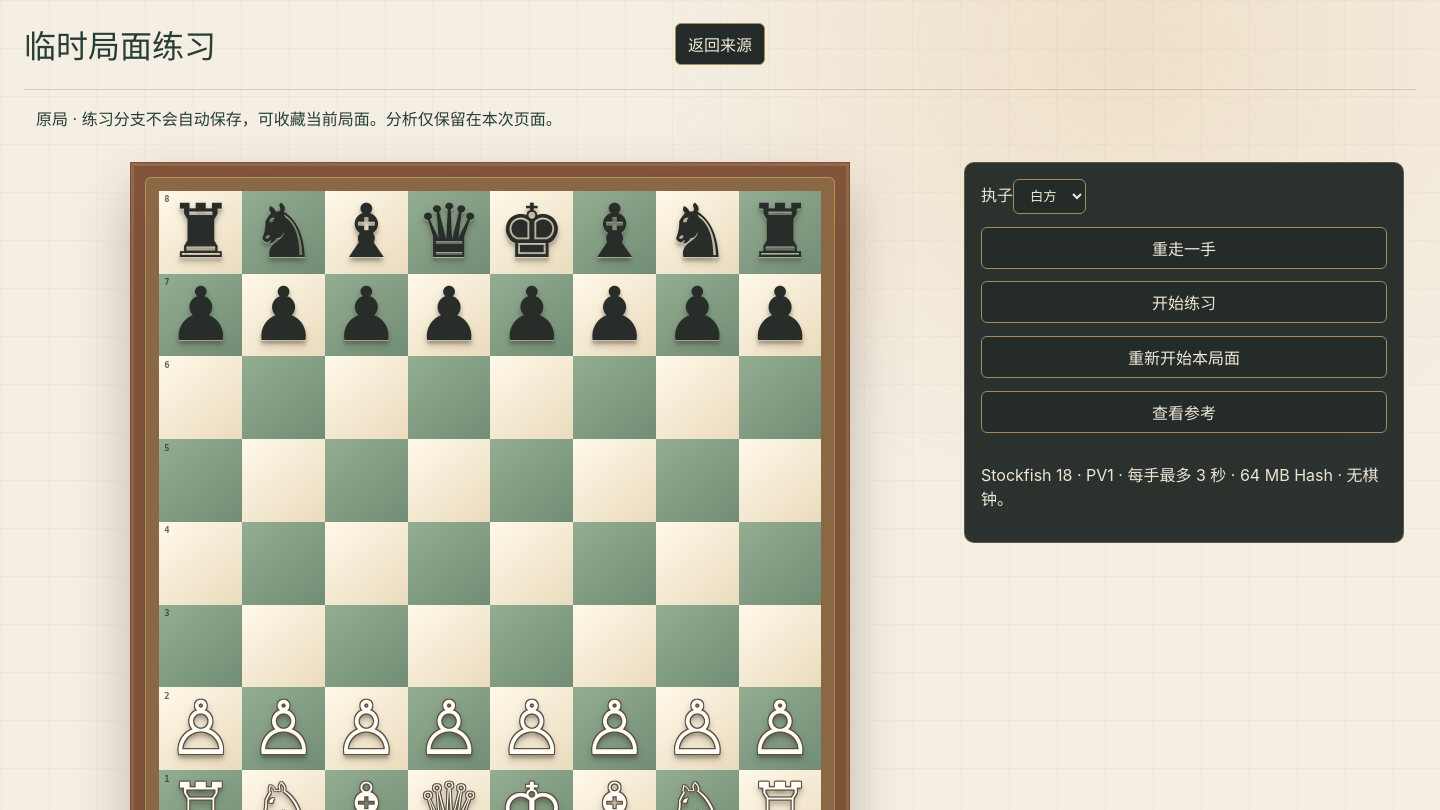
临时练习与原局隔离 › 浏览与重走不加载引擎、不保存；参考默认收起，完整历史不变
Expected: the text "答案备注" is not shown
Click the button "重走一手" at (1184, 248), box [981,227,1387,269]
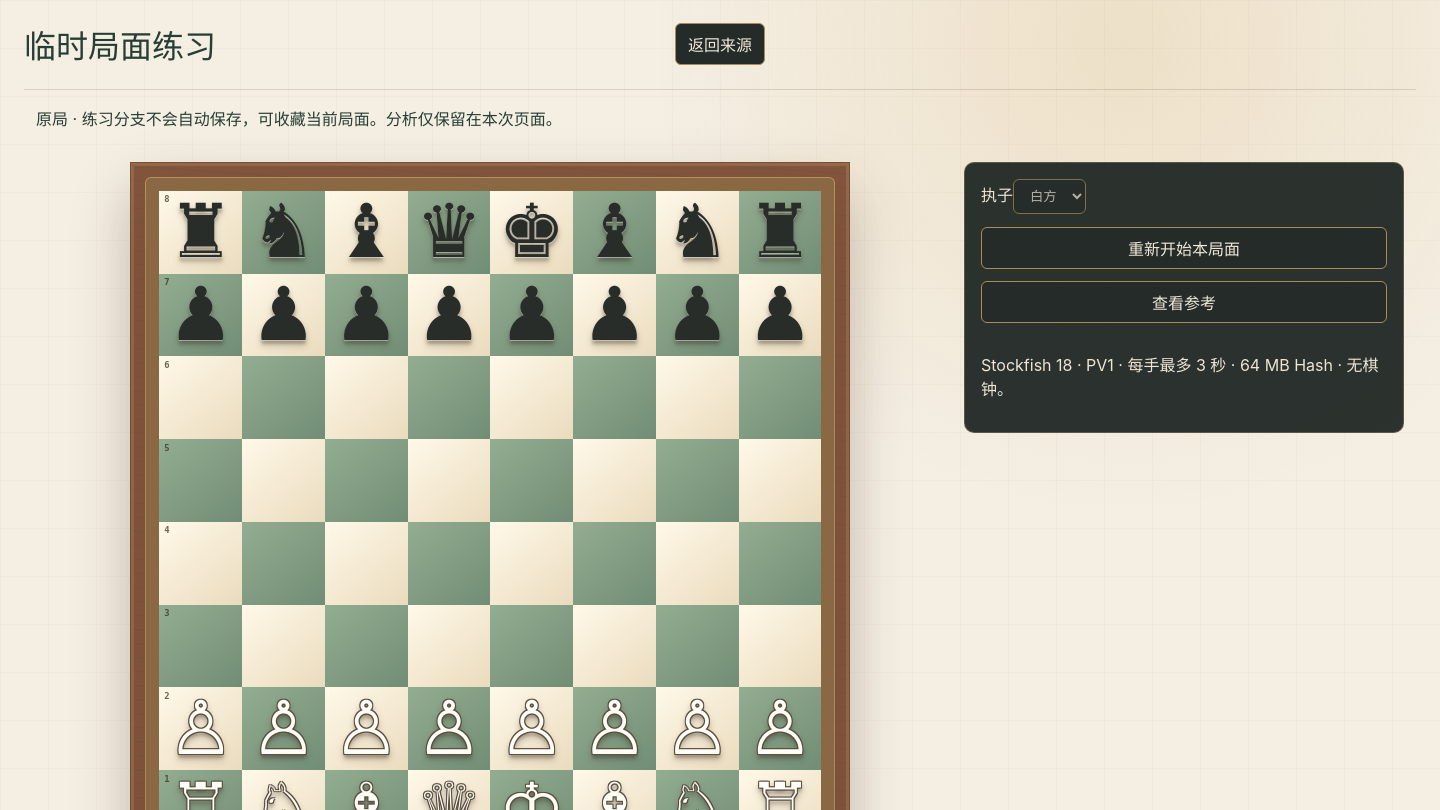
Click the cell named "e2 白方p" at (532, 729), box [490,687,573,770]
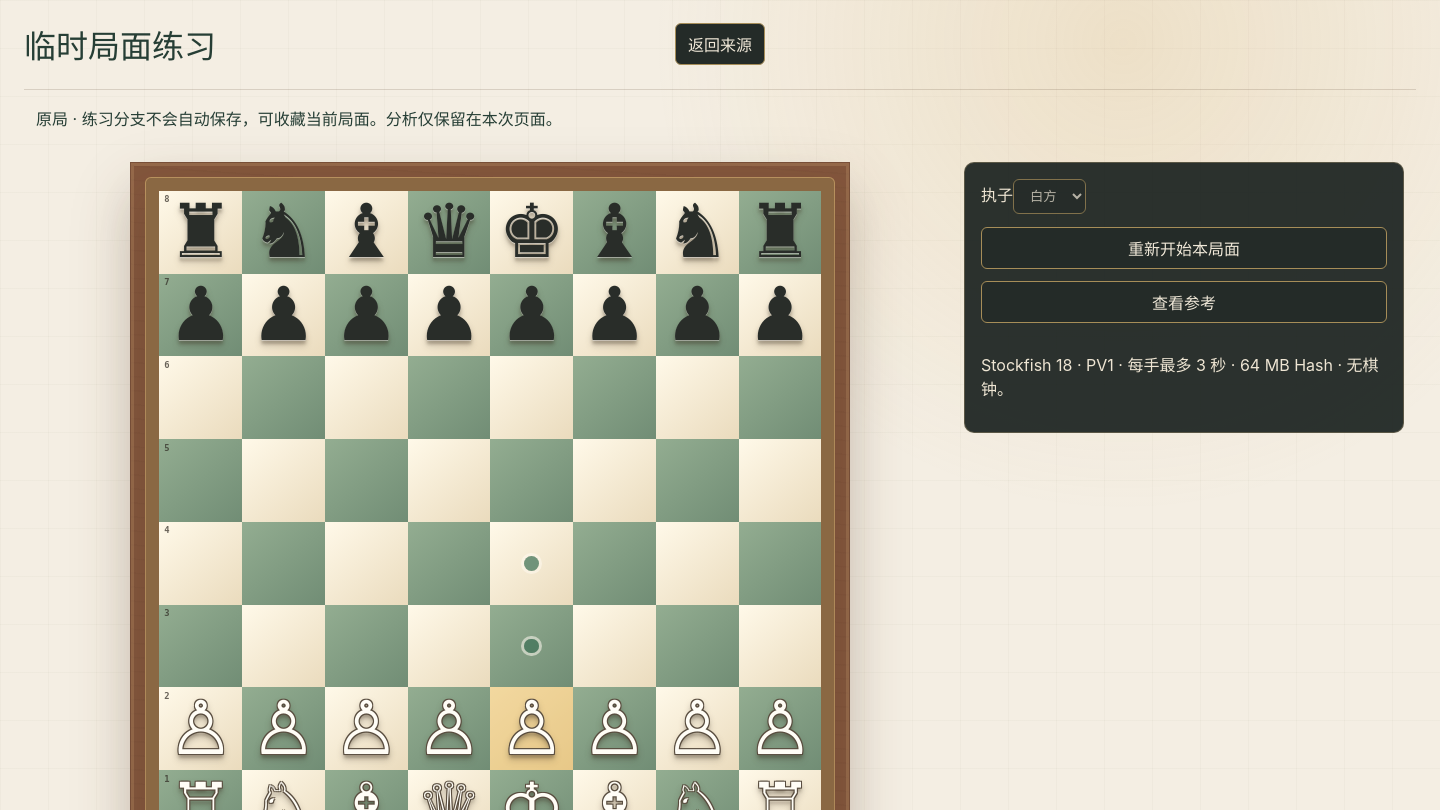
Click the cell named "e4 可落子" at (532, 563), box [490,522,573,605]
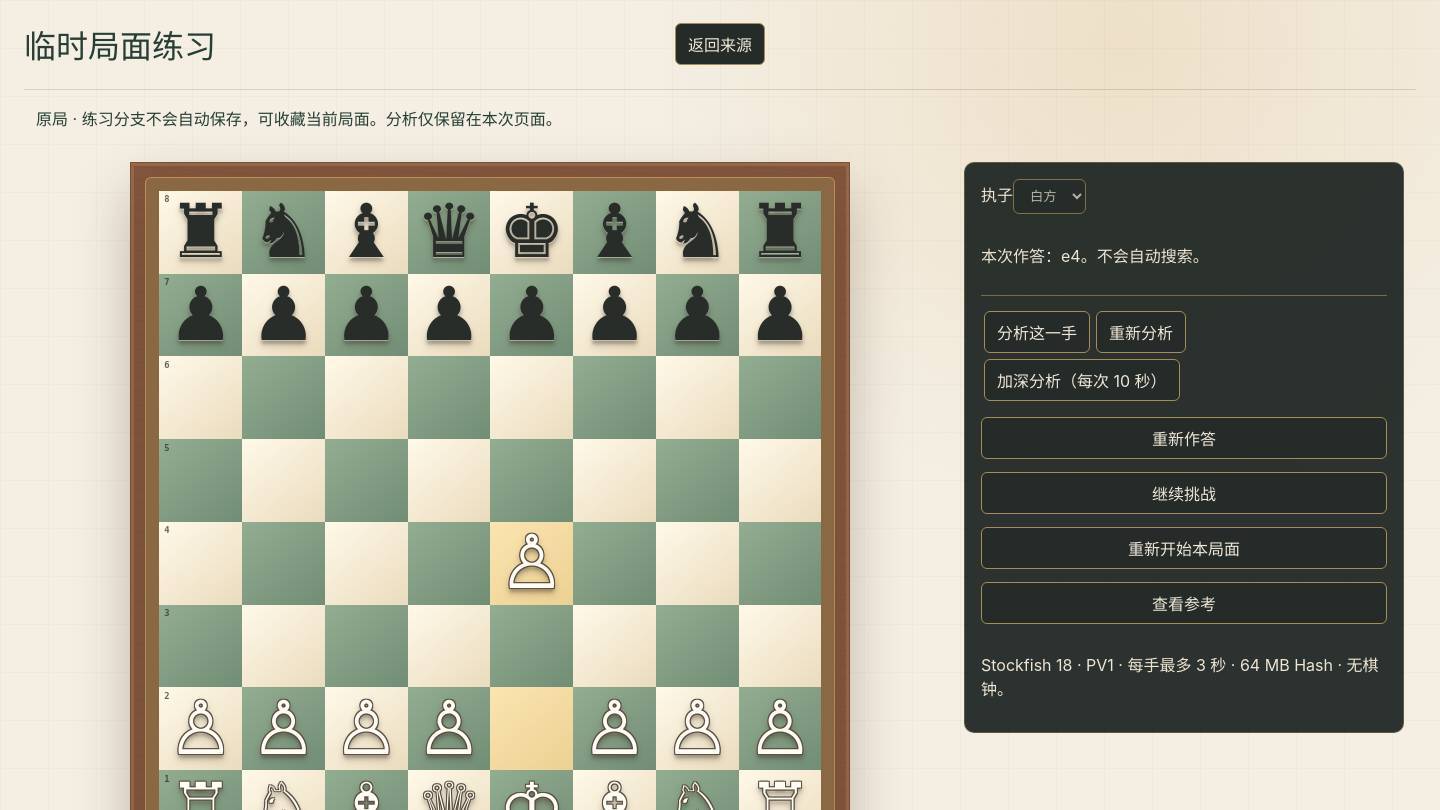
Expected: the text "本次作答：e4。不会自动搜索。" is shown, [981,246,1209,266]
Click the button "查看参考" at (1184, 603), box [981,582,1387,624]
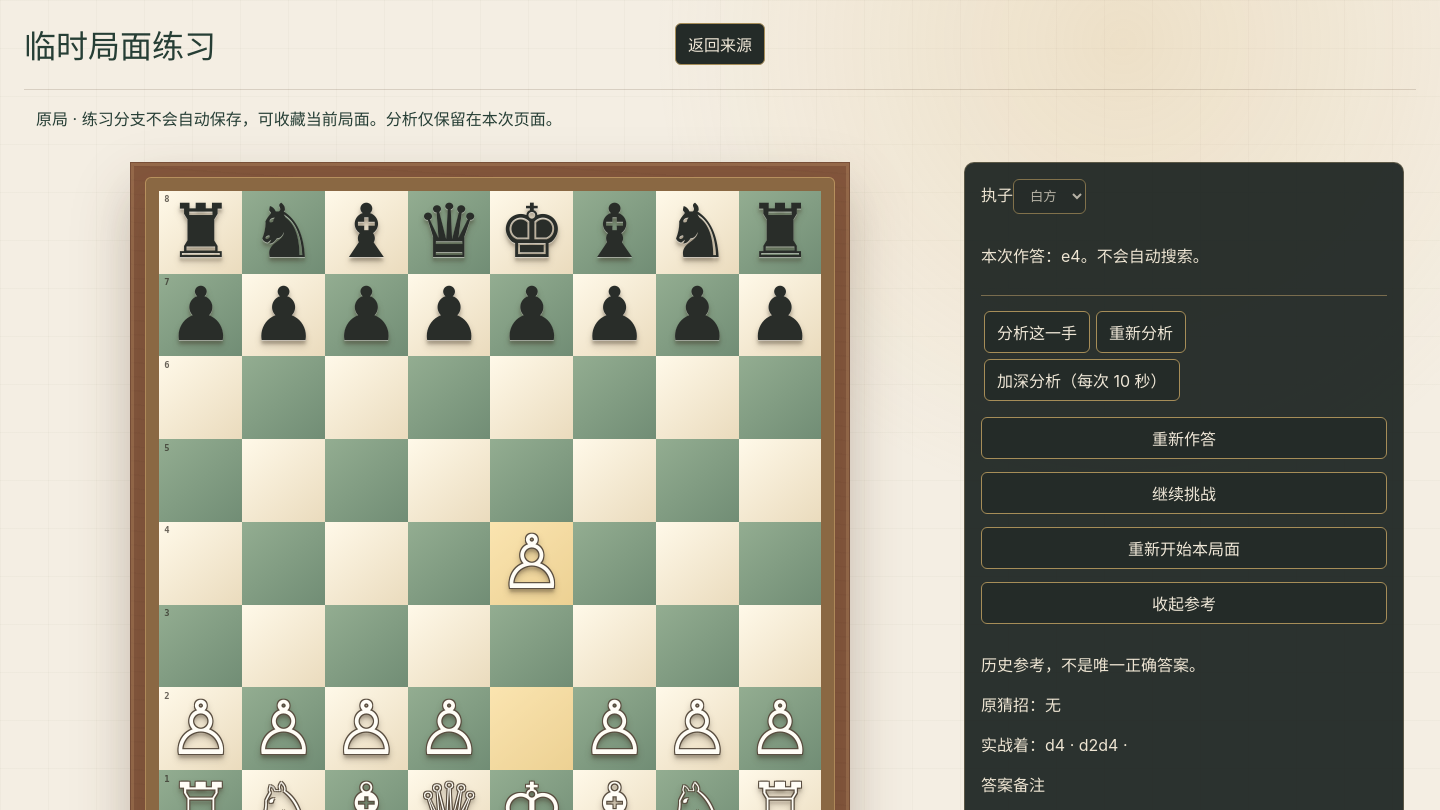
Expected: the text "答案备注" is shown, [981,776,1045,796]
Click the button "重新作答" at (1184, 438), box [981,417,1387,459]
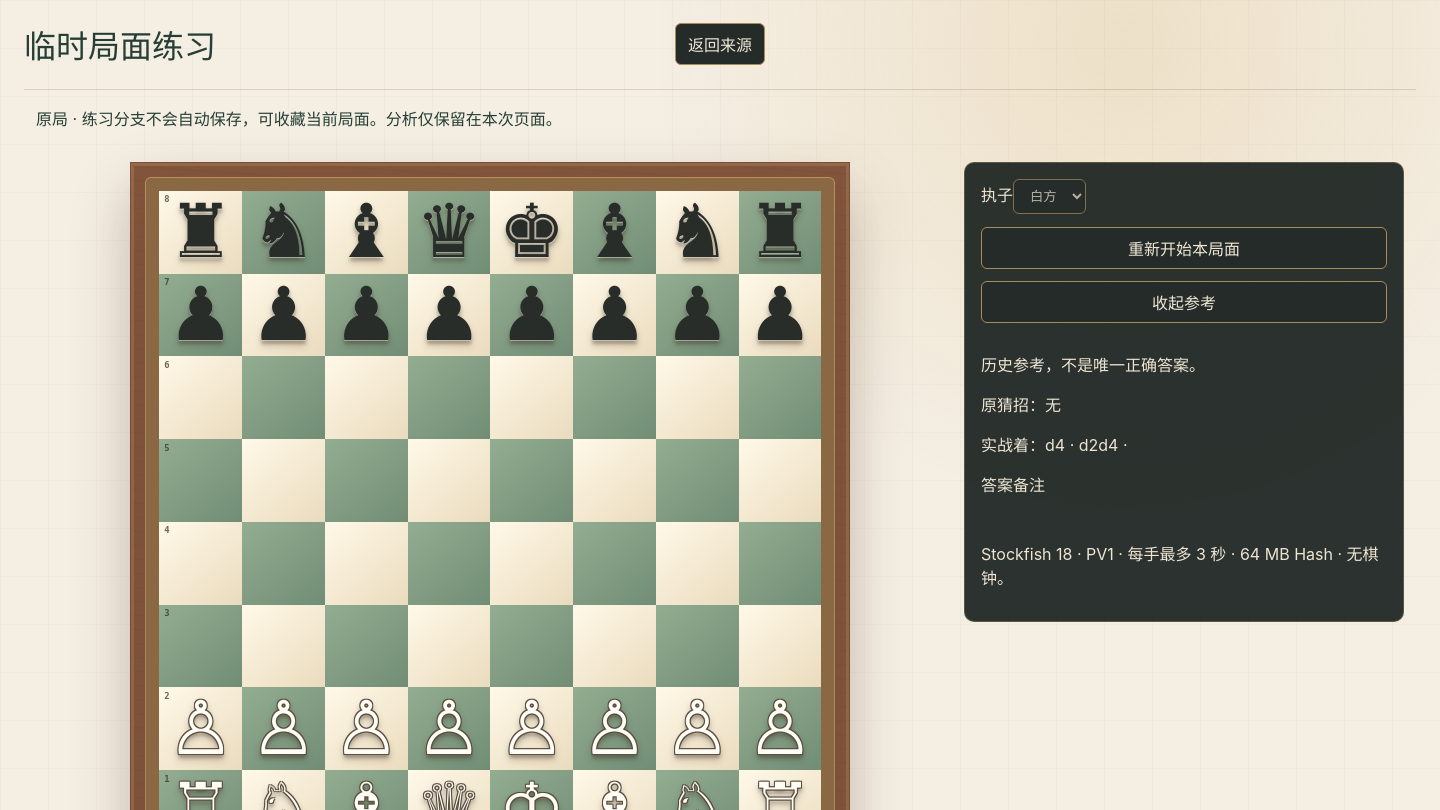
Expected: the text "本次作答" is gone
